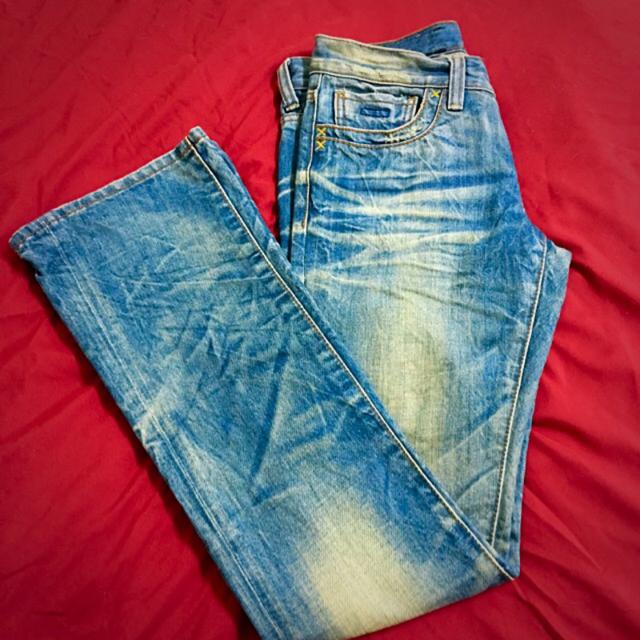Pants_Leggings: (12, 24, 576, 640)
